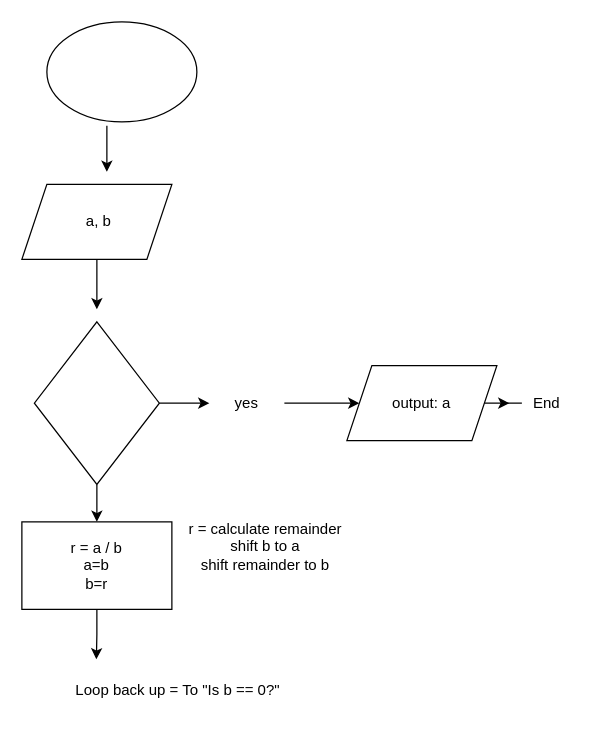
Image size: 606x731. Some labels were removed from this diagram. Each missing label, with the centre of its shape:
"is b == 0?" goes at point 96,402.
"START" goes at point 121,71.
